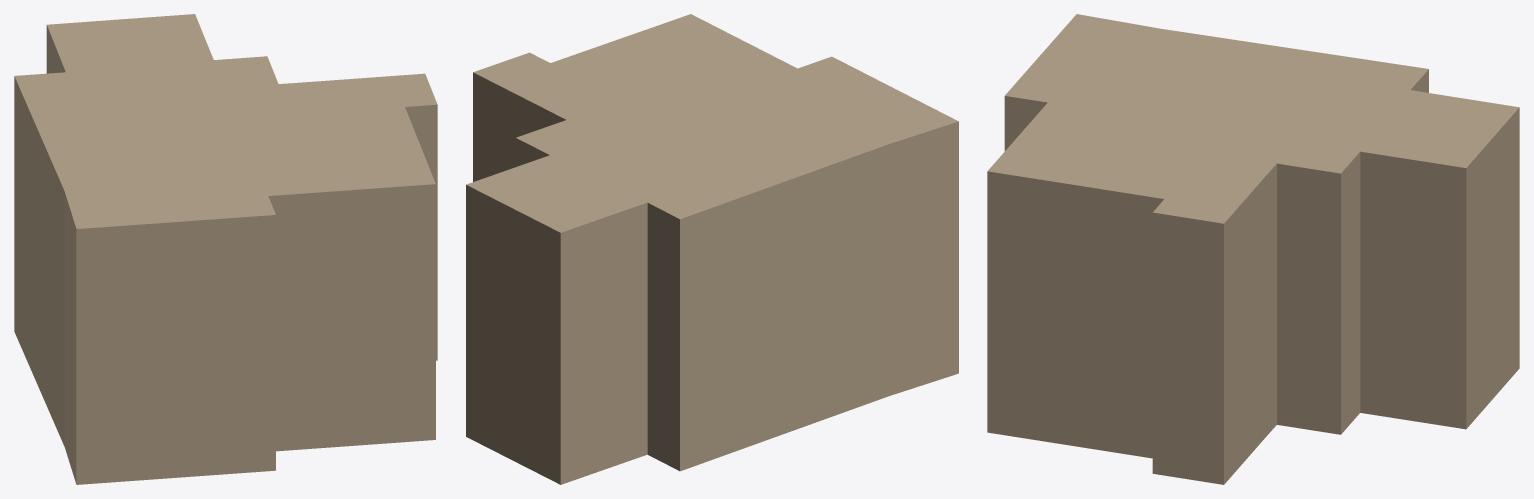
The model's file is bld_99519883.dae.
3 renders of one model, left to right at view 1: azimuth 30°, elevation 25°; view 2: azimuth 150°, elevation 25°; view 3: azimuth 270°, elevation 25°, orthographic. The views are drawn at different scales.
Parts seen in each view (by area): view 1: bld_99519883; view 2: bld_99519883; view 3: bld_99519883.
Part boxes in pixels (bbox=[...]): bld_99519883: bbox=[14, 14, 437, 484]; bld_99519883: bbox=[466, 14, 958, 484]; bld_99519883: bbox=[987, 14, 1519, 484].
Bounding box in the file's own units: 13.77 × 14.77 × 8.
